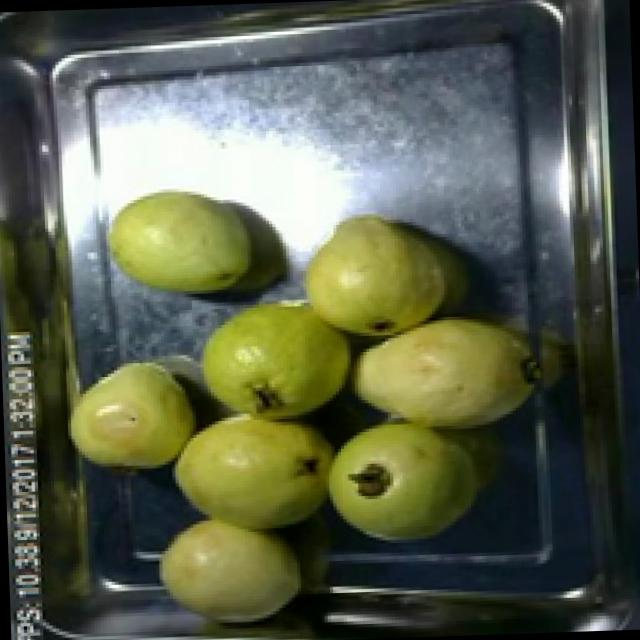Fruit: (336, 300, 542, 448), (288, 197, 474, 353), (181, 286, 371, 424), (314, 404, 484, 554), (160, 412, 353, 544), (91, 175, 268, 302), (148, 503, 312, 640), (58, 343, 207, 483)
